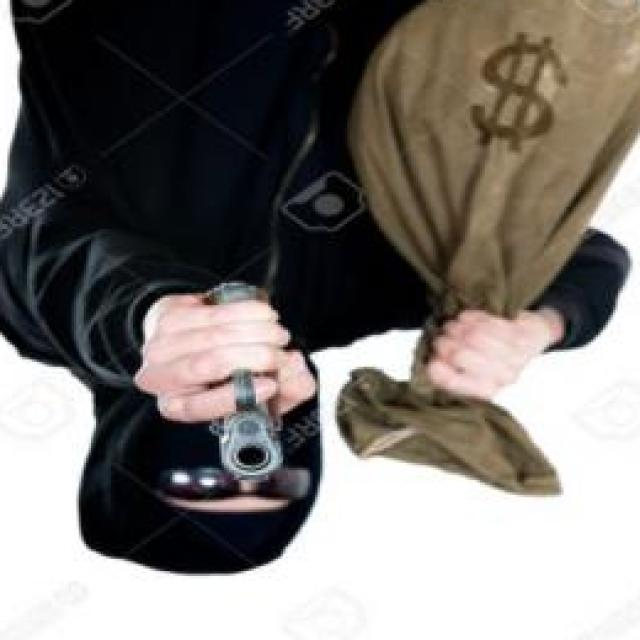pistol: (204, 284, 298, 485)
